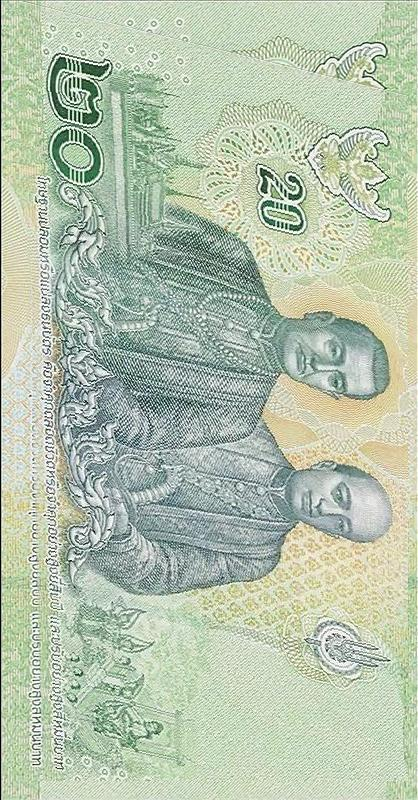20BahtTai: (20, 0, 408, 781)
